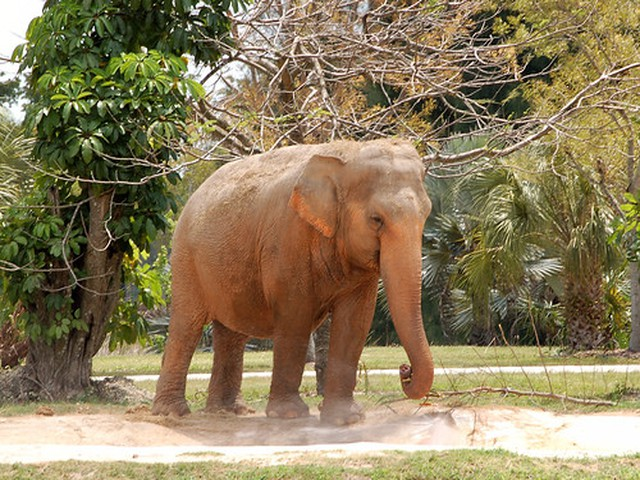Elephant: (152, 137, 442, 424)
